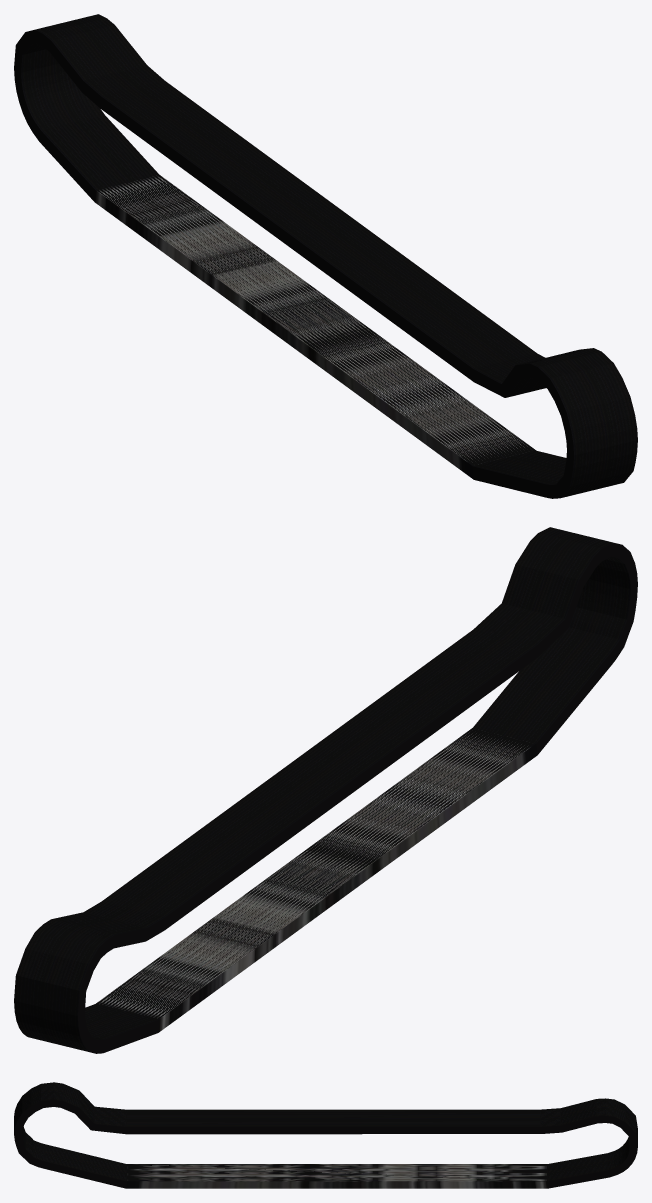
File: Truck_with_shell.fbx
3 renders of one model, top to bottom at view 1: azimuth 30°, elevation 25°; view 2: azimuth 150°, elevation 25°; view 3: azimuth 270°, elevation 25°, orthographic. The views are drawn at different scales.
Visible parts, largest first — view 1: Truck_with_shell; view 2: Truck_with_shell; view 3: Truck_with_shell.
Part boxes in pixels (x1=…): Truck_with_shell: x1=14, y1=14, x2=637, y2=498; Truck_with_shell: x1=14, y1=527, x2=637, y2=1053; Truck_with_shell: x1=14, y1=1082, x2=637, y2=1188.
Bounding box in the file's own units: 0.5162 × 1.23 × 7.84.
Materials: 1 (1 with a texture image).
